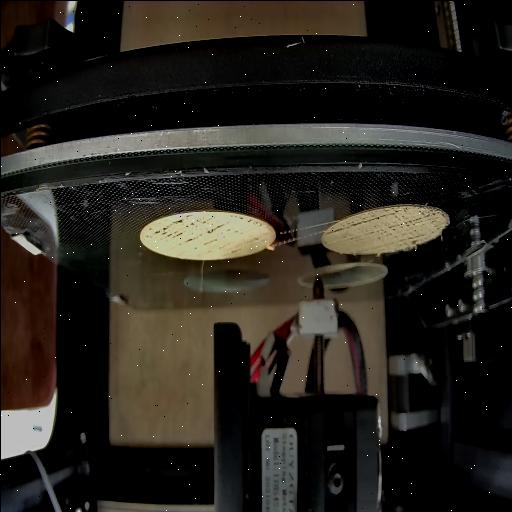under_extrusion: (322, 213, 440, 245), (146, 212, 262, 244)
